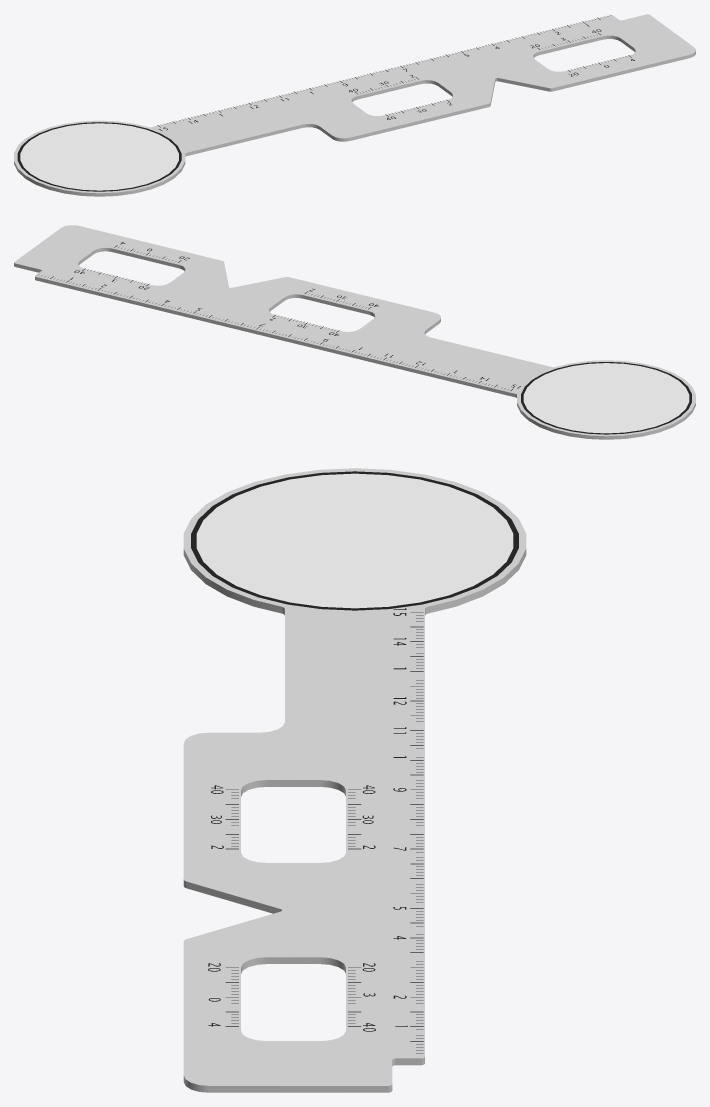
Rendered from DangBan.fbx.
3 views of the same model, one above another, from view 1: azimuth 30°, elevation 25°; view 2: azimuth 150°, elevation 25°; view 3: azimuth 270°, elevation 25° (orthographic). The views are drawn at different scales.
Visible parts, largest first — view 1: DangBan_Mesh; view 2: DangBan_Mesh; view 3: DangBan_Mesh.
Boxes of the visible parts, bbox=[...] form: DangBan_Mesh: bbox=[14, 14, 695, 196]; DangBan_Mesh: bbox=[14, 225, 695, 439]; DangBan_Mesh: bbox=[183, 468, 526, 1092].
Bounding box in the file's own units: 20.86 × 0.1398 × 4.89.
